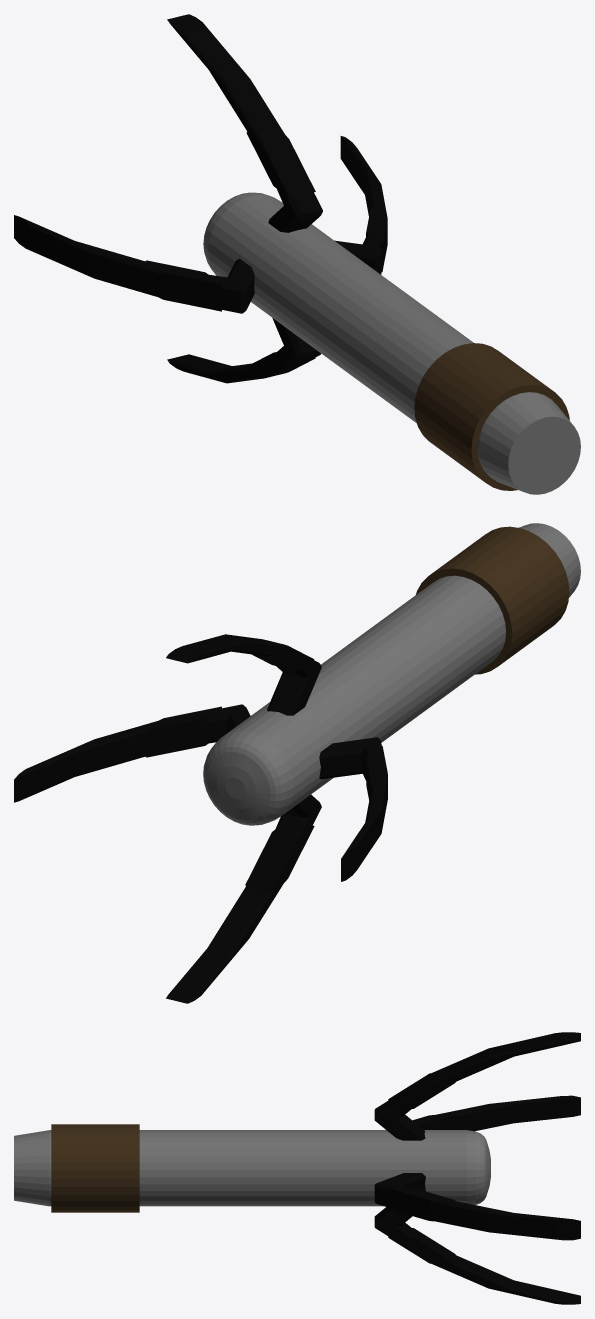
File: Hook.fbx
3 renders of one model, top to bottom at view 1: azimuth 30°, elevation 25°; view 2: azimuth 150°, elevation 25°; view 3: azimuth 270°, elevation 25°, orthographic. The views are drawn at different scales.
Visible parts, largest first — view 1: Body, Grip, Claw 2, Claw 4, Claw 1, Claw 3; view 2: Body, Grip, Claw 3, Claw 1, Claw 2, Claw 4; view 3: Body, Grip, Claw 3, Claw 4, Claw 1, Claw 2.
Part boxes in pixels (bbox=[...]): Body: bbox=[203, 192, 580, 494]; Grip: bbox=[414, 343, 569, 490]; Claw 2: bbox=[14, 215, 254, 313]; Claw 4: bbox=[167, 14, 322, 232]; Claw 1: bbox=[167, 318, 321, 383]; Claw 3: bbox=[335, 136, 387, 274]; Body: bbox=[203, 523, 580, 825]; Grip: bbox=[416, 526, 569, 674]; Claw 3: bbox=[14, 704, 250, 802]; Claw 1: bbox=[166, 794, 321, 1003]; Claw 2: bbox=[319, 737, 387, 881]; Claw 4: bbox=[166, 634, 321, 715]; Body: bbox=[14, 1130, 490, 1206]; Grip: bbox=[51, 1124, 139, 1212]; Claw 3: bbox=[374, 1173, 580, 1240]; Claw 4: bbox=[374, 1032, 580, 1140]; Claw 1: bbox=[374, 1207, 580, 1304]; Claw 2: bbox=[412, 1095, 580, 1131].
Bounding box in the file's own units: 621 × 618 × 1208.
